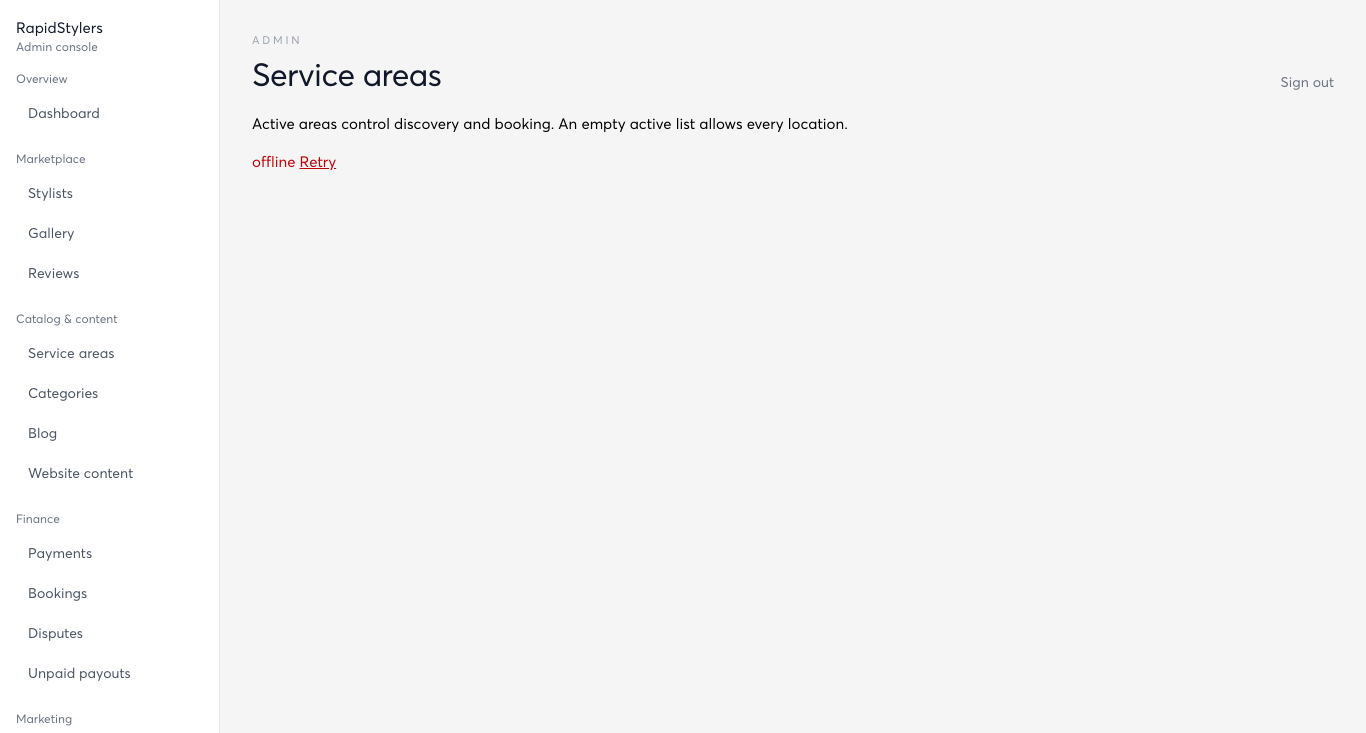
it: service area load failures show retry, never unrestricted defaults
Check: the message shows "offline", box [252,152,295,170]
Check: the text "No geographic restriction is active." is not shown
Click the button "Retry" at (318, 161), box [300,150,336,173]
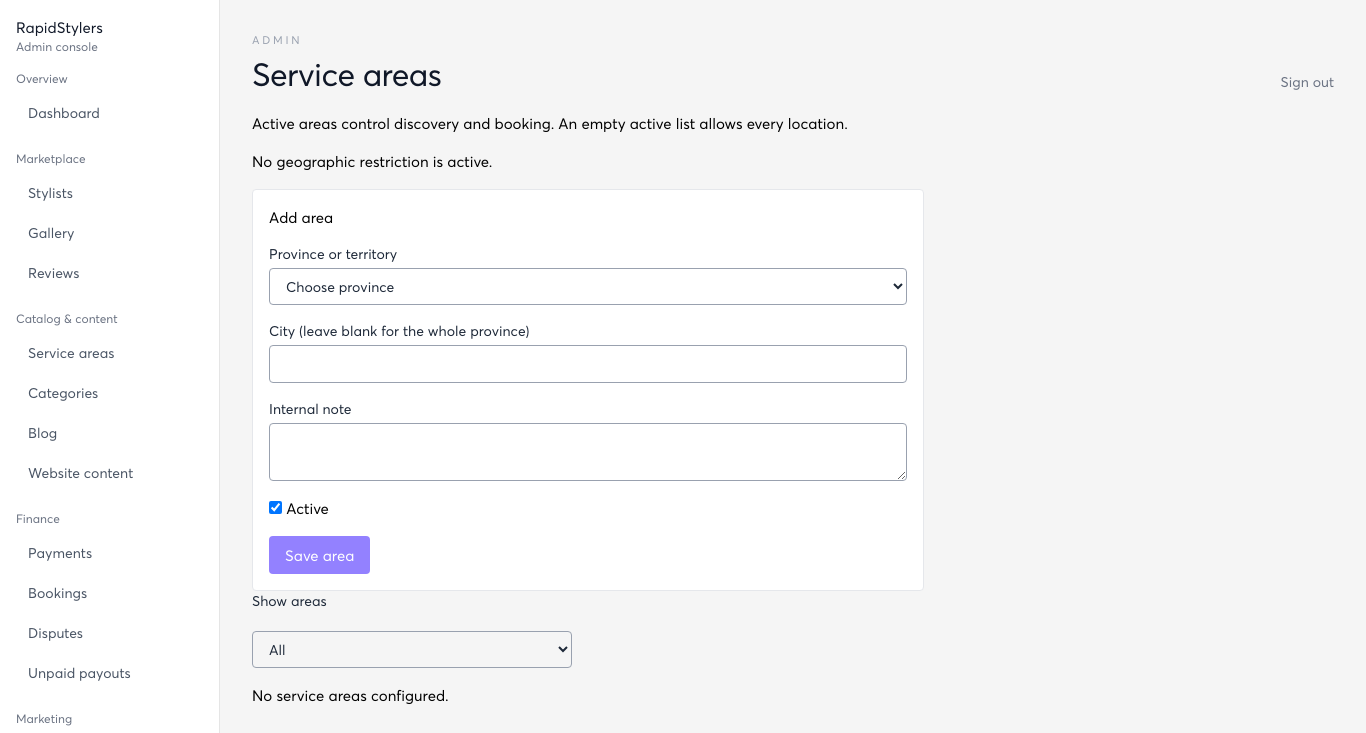
Check: the text "No geographic restriction is active." is shown, box [252,152,492,170]
